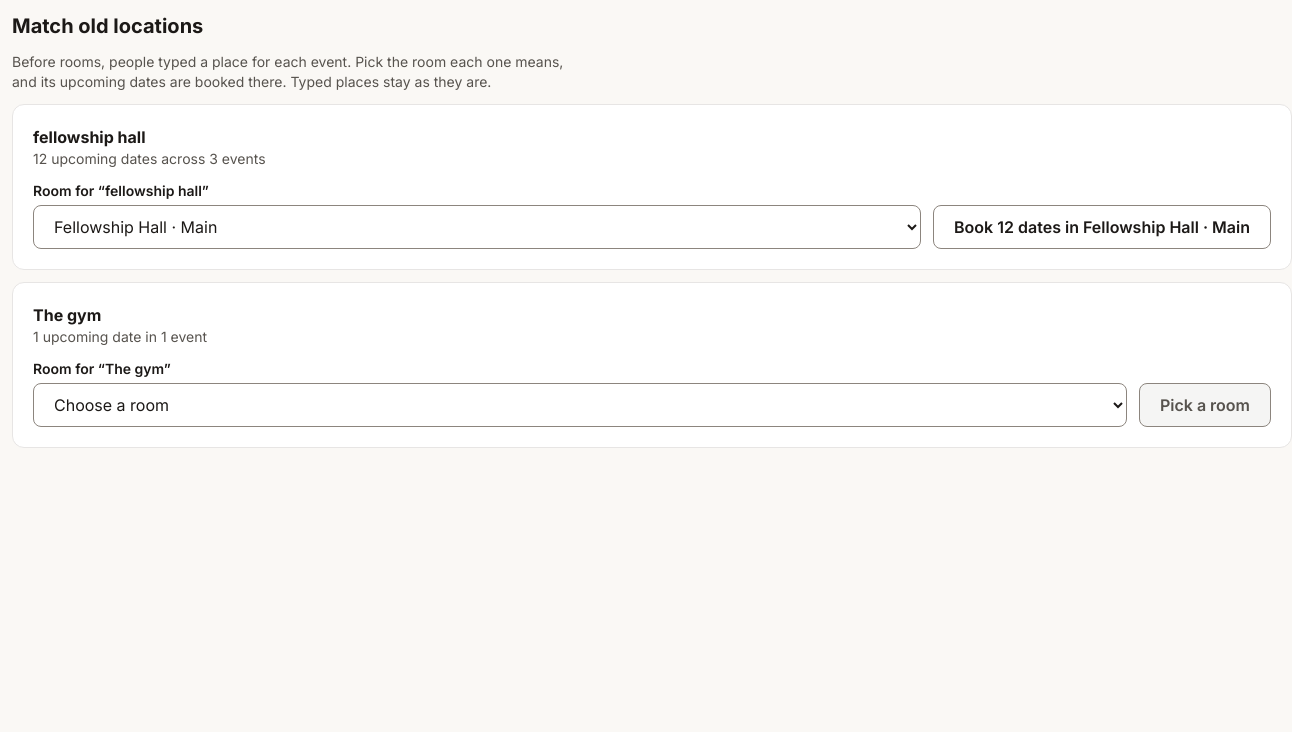
Test: MatchLocations › announces only the summary and keeps the dates left alone outside the live region
Expected: the text "fellowship hall" is shown, [33, 127, 146, 147]
Click the button "Book 12 dates in Fellowship Hall · Main". click: (1102, 227)
box: [933, 205, 1271, 249]
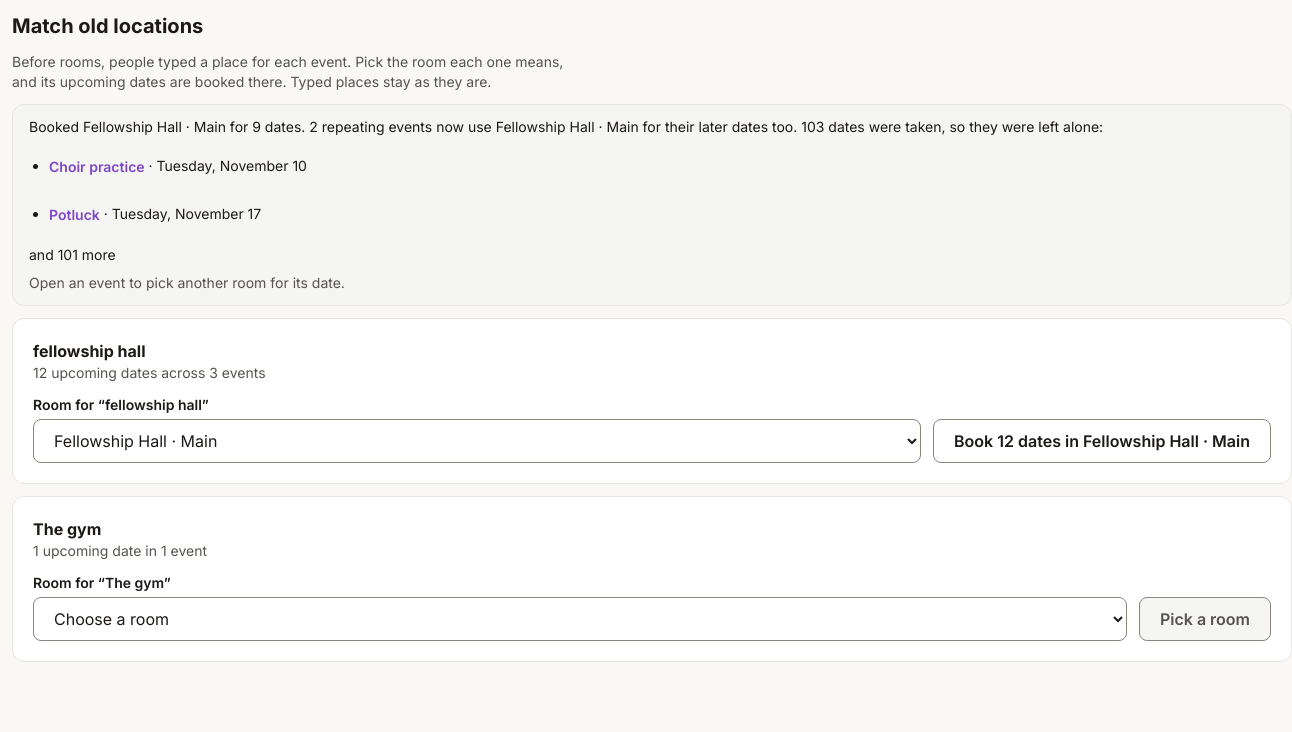
Expected: the message shows "Booked Fellowship Hall · Main for 9 dates. 2 repeating events now use Fellowship Hall · Main for their later dates too. 103 dates were taken, so they were left", [29, 118, 1103, 135]
Expected: the list item "Potluck · Tuesday, November 17" is shown, [49, 205, 261, 223]
Expected: the text "Open an event to pick another room for its date." is shown, [29, 274, 345, 291]
